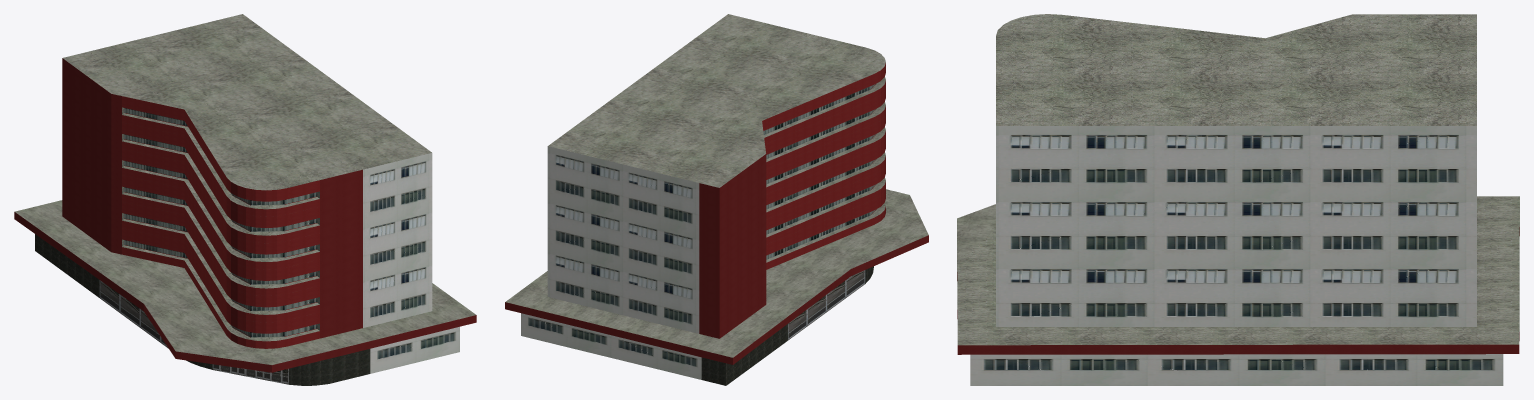
Rendered from decoblok2_lan.obj.
The picture shows the model from 3 angles, left to right: view 1: azimuth 30°, elevation 25°; view 2: azimuth 150°, elevation 25°; view 3: azimuth 270°, elevation 25°; orthographic projection. The views are drawn at different scales.
Parts seen in each view (by area): view 1: decoblok2_lan; view 2: decoblok2_lan; view 3: decoblok2_lan.
Part boxes in pixels (bbox=[...]): decoblok2_lan: bbox=[14, 14, 476, 385]; decoblok2_lan: bbox=[505, 14, 928, 385]; decoblok2_lan: bbox=[957, 14, 1519, 385].
Size of the model in its own units: 36.46 by 26 by 53.26.
